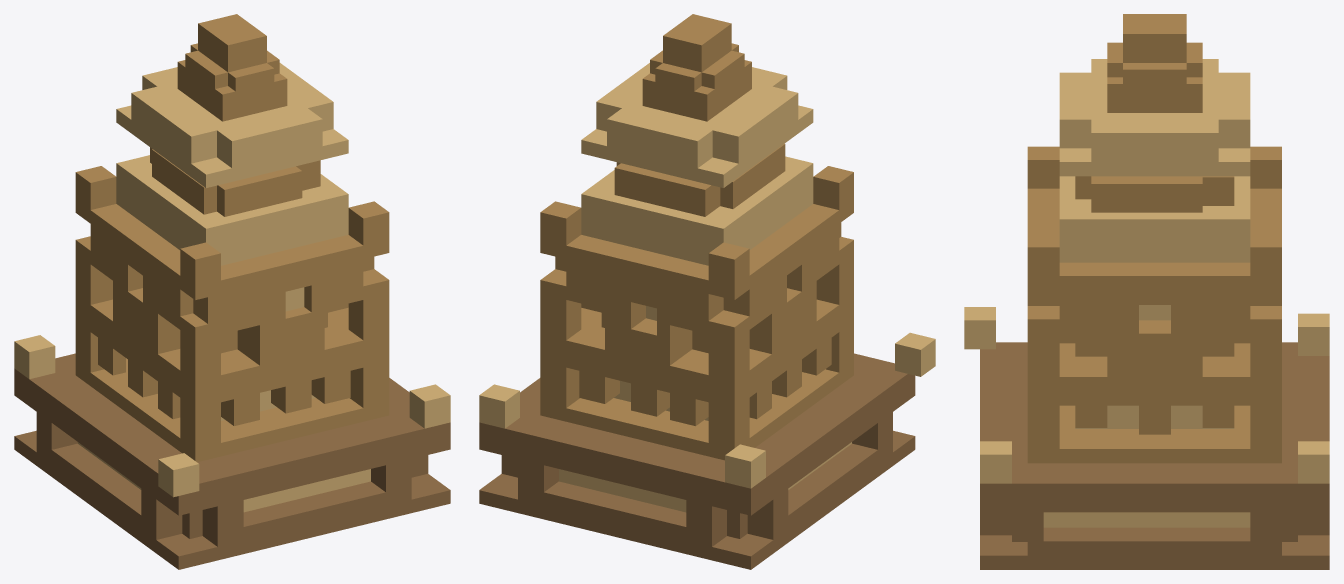
Rendered from TemplePillarLarge.obj.
3 renders of one model, left to right at view 1: azimuth 30°, elevation 25°; view 2: azimuth 150°, elevation 25°; view 3: azimuth 270°, elevation 25°, orthographic. The views are drawn at different scales.
Size of the model in its own units: 2.2 by 3.3 by 2.3.
1 material, 1 textured.
